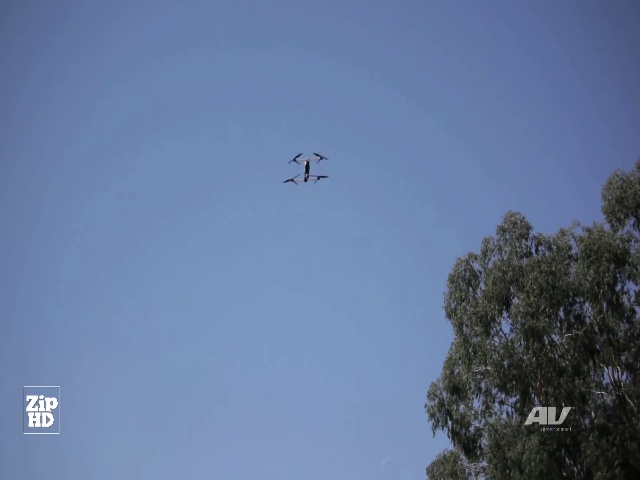drone: (280, 150, 331, 191)
